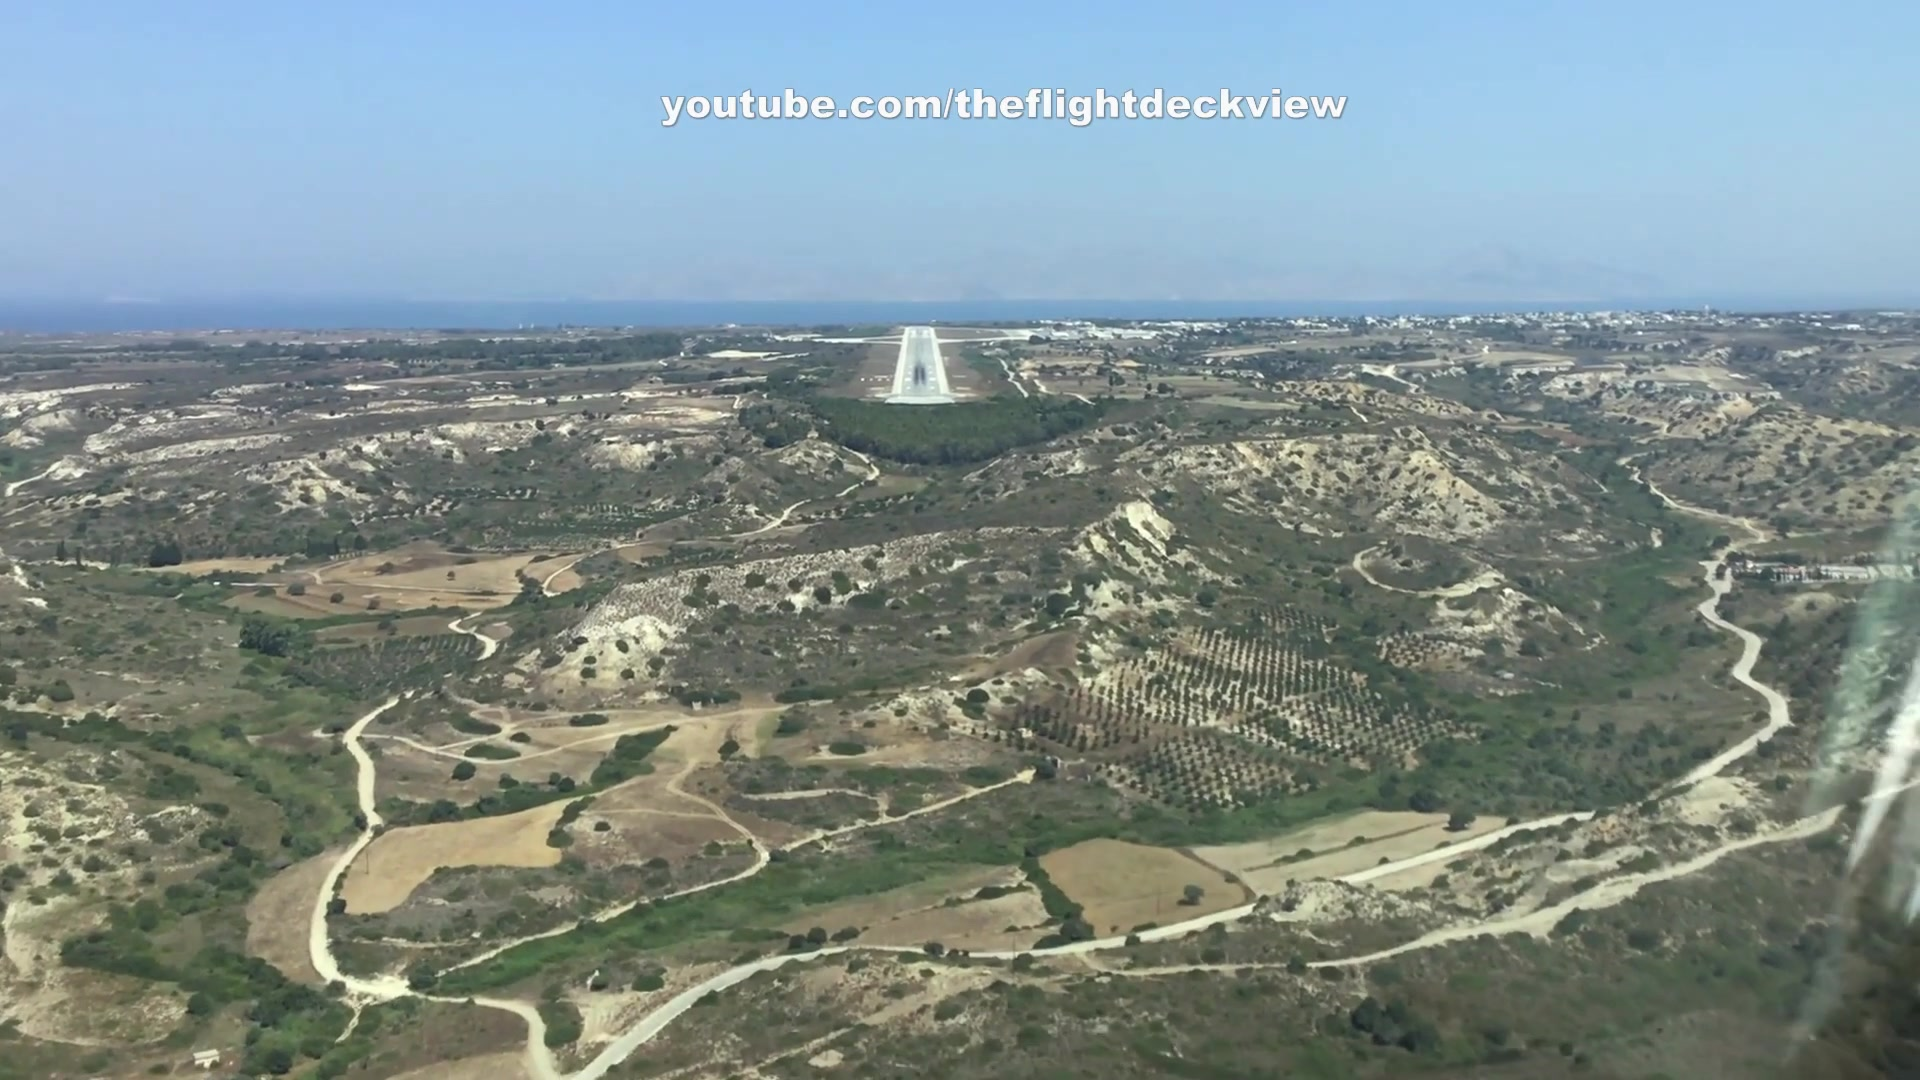runway: (895, 326, 947, 404)
